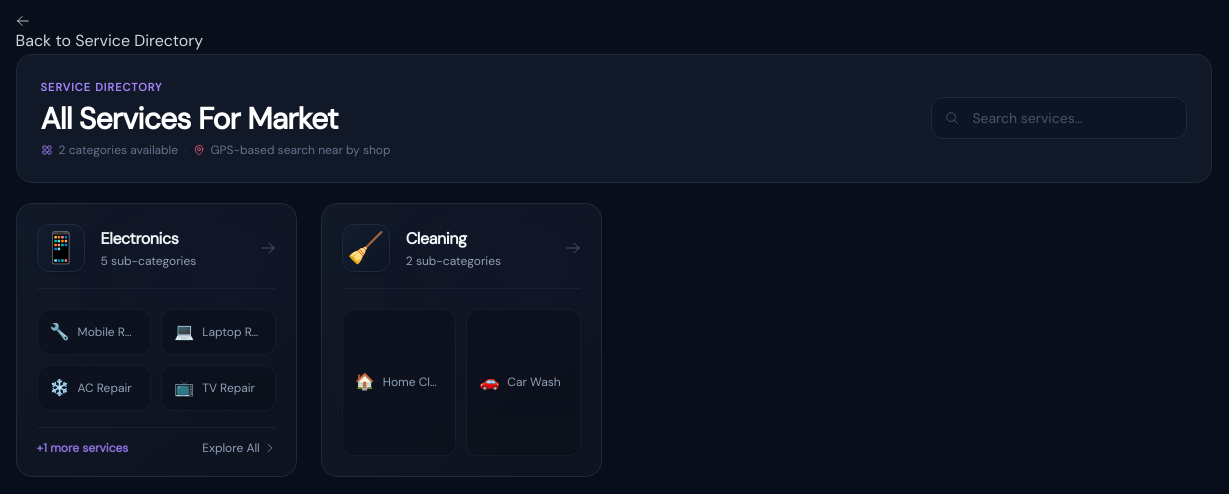
Test: AllServices Page › filters categories based on subcategory name search
Type "Car" into the field with placeholder "Search services…" at (1059, 118), box x1=931 y1=97 x2=1187 y2=139
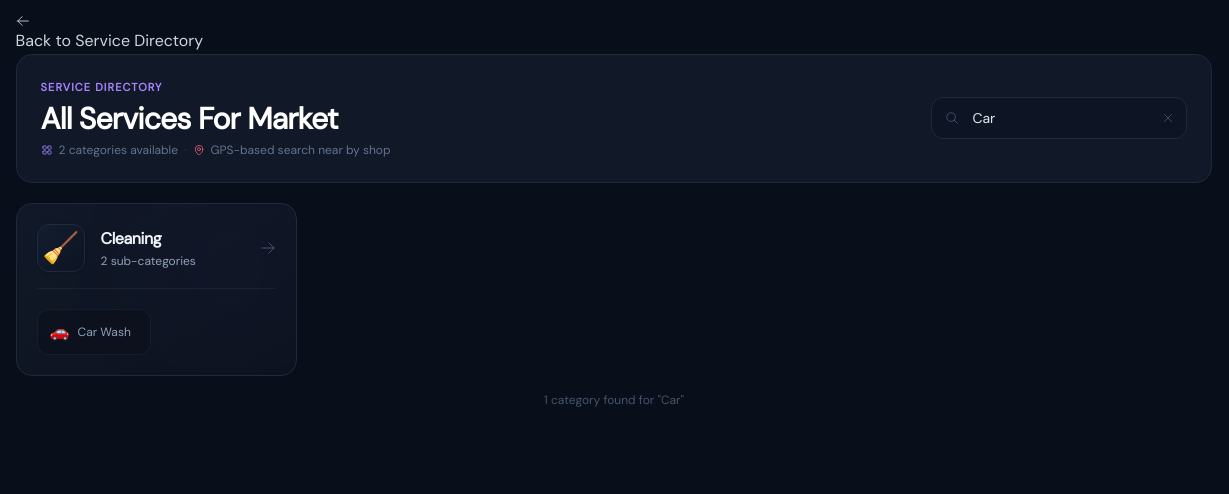
Check: the heading "Cleaning" is shown, box x1=101 y1=228 x2=161 y2=249
Check: the heading "Electronics" is gone
